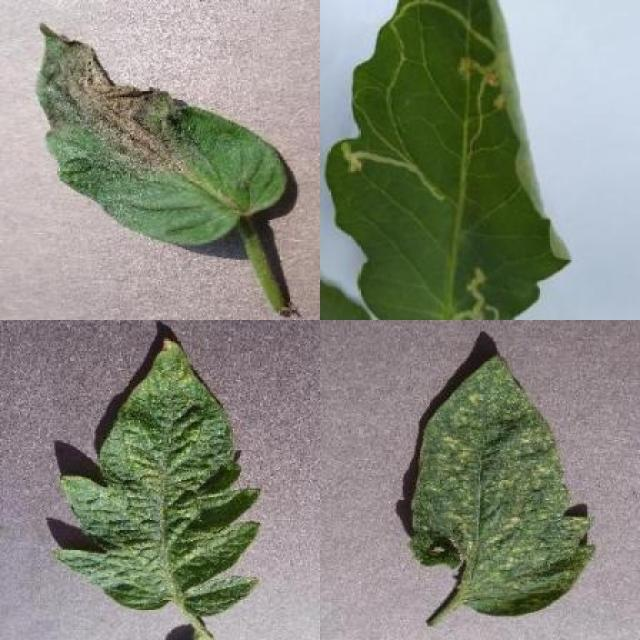Late Blight: (35, 22, 285, 248)
Leaf Miner: (324, 0, 570, 320)
Spider Mites: (55, 334, 262, 616), (407, 352, 596, 618)
